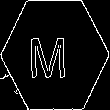M_N: (35, 30, 75, 80)
